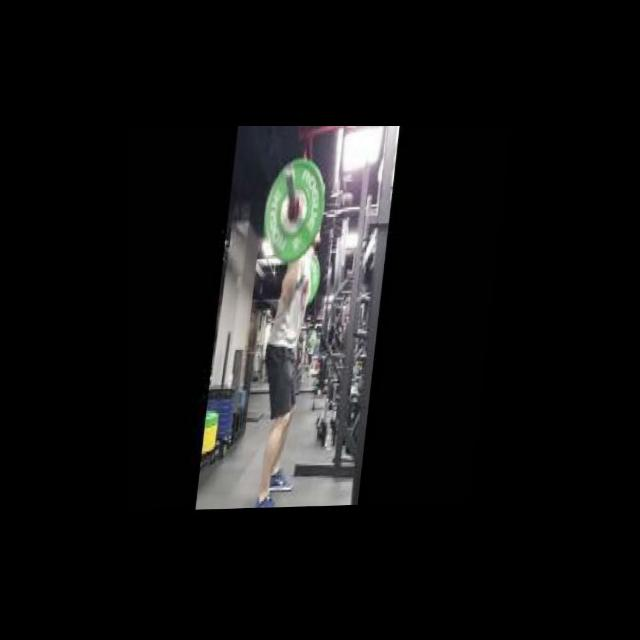barbell: (254, 153, 334, 267)
